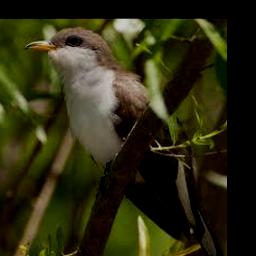Cuckoo: (24, 26, 227, 256)
